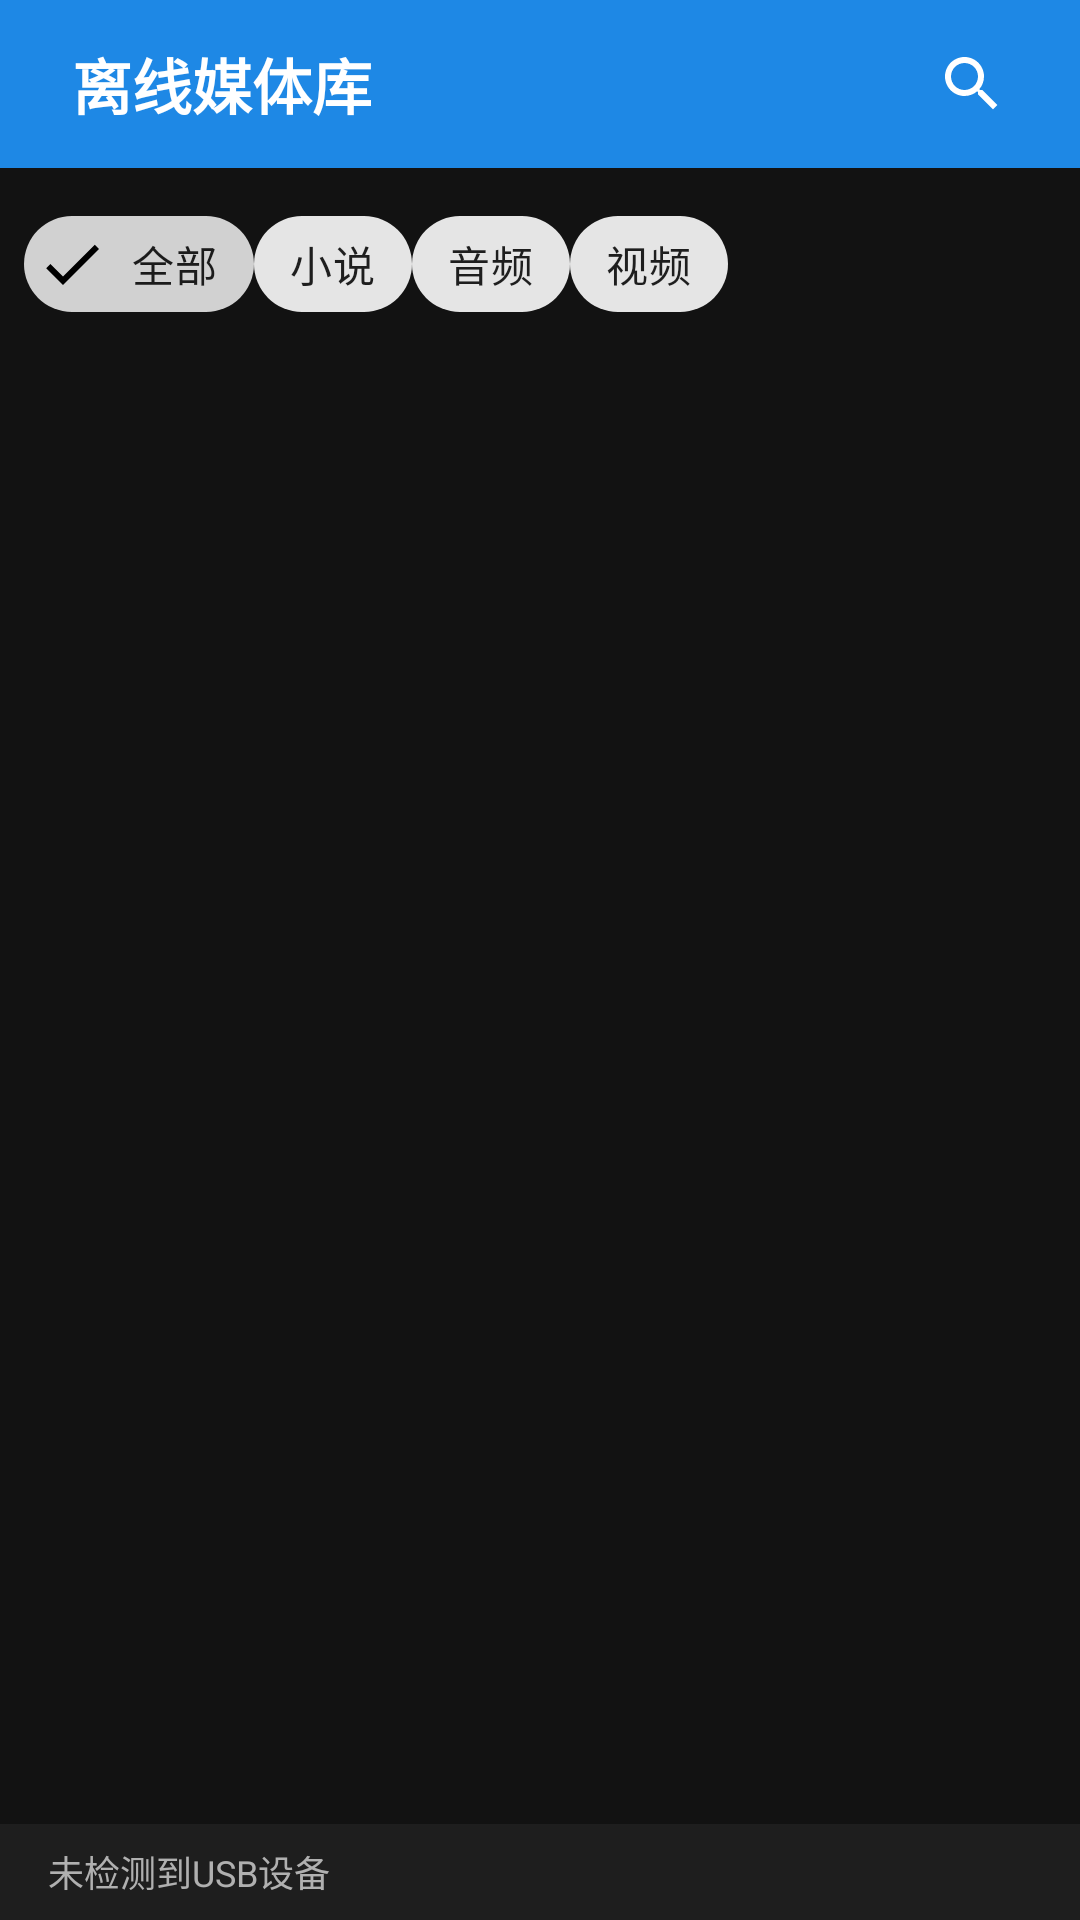

Icons on this 1080×1920 Android screen, each with the point to tap as [x,y]:
search: [971,83]
